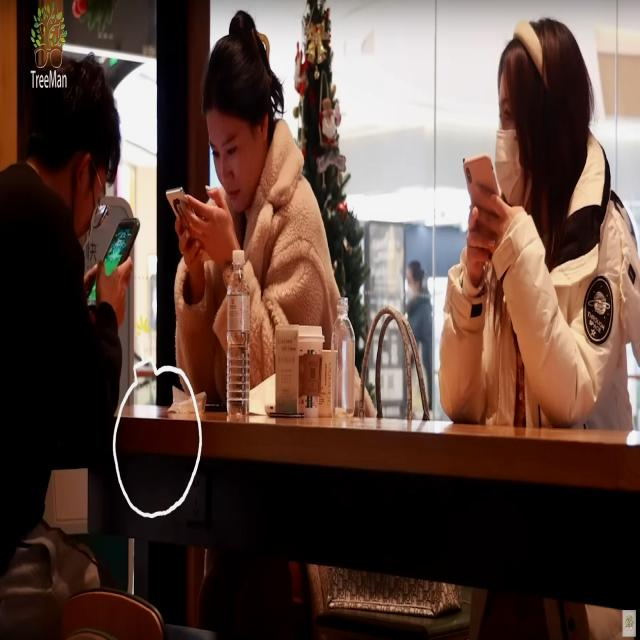non-cheating: (153, 170, 237, 267), (444, 149, 514, 236)
phone: (458, 33, 614, 190)
